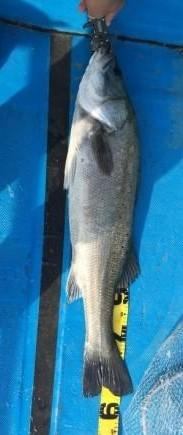fish: (64, 49, 139, 415)
